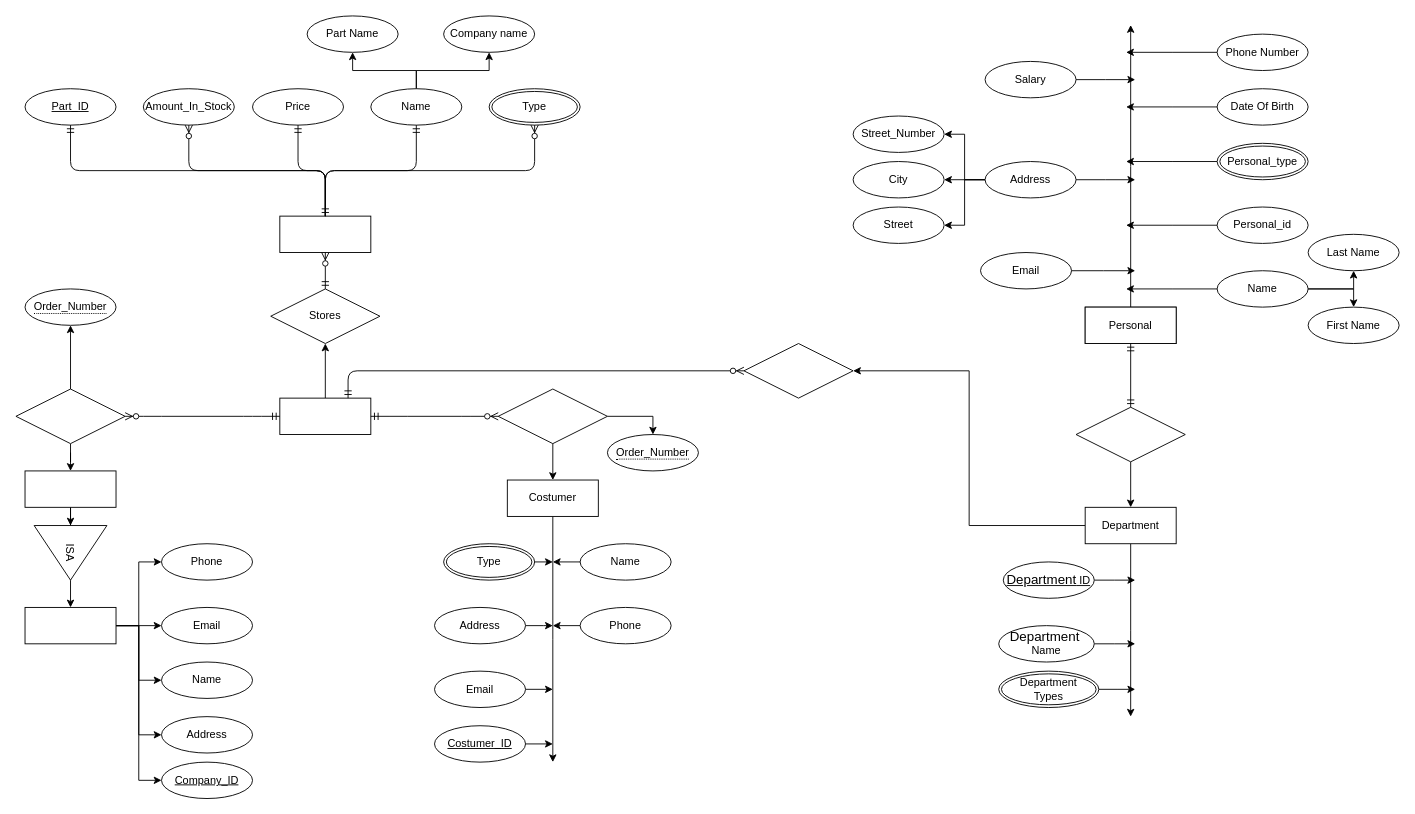
The diagram is 1415 pixels wide and 814 high, and some of its shapes have lost their labels. The centre of each missing label's shape, as x and y in pixels:
"Bike_Parts" belongs at (x=325, y=234).
"Company" belongs at (x=70, y=625).
"Factory" belongs at (x=325, y=416).
"Has" belongs at (x=798, y=370).
"Orders From" belongs at (x=70, y=416).
"Sells to" belongs at (x=552, y=416).
"Supplier" belongs at (x=70, y=488).
"Works in" belongs at (x=1130, y=434).
